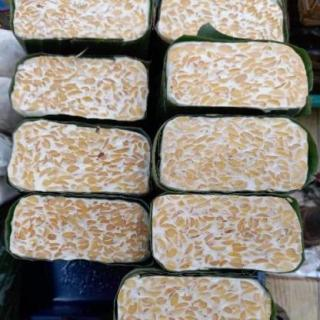Tempe: (7, 2, 312, 320)
